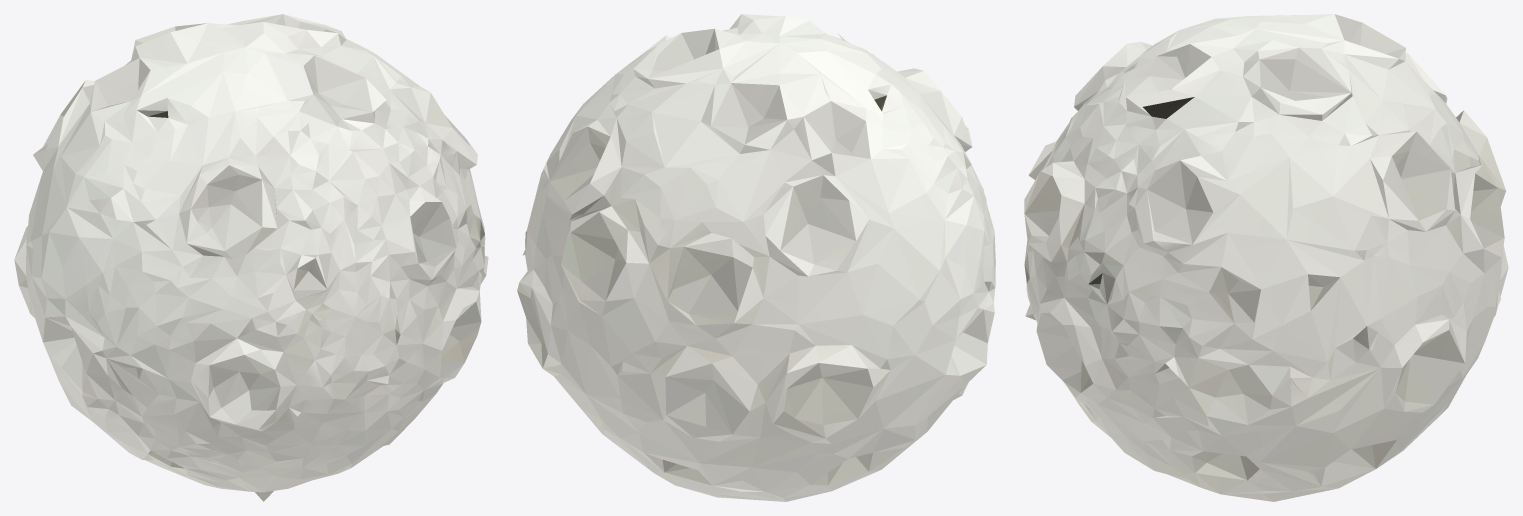
Rendered from moon.glb.
3 renders of one model, left to right at view 1: azimuth 30°, elevation 25°; view 2: azimuth 150°, elevation 25°; view 3: azimuth 270°, elevation 25°, orthographic. The views are drawn at different scales.
Parts seen in each view (by area): view 1: moon; view 2: moon; view 3: moon.
Boxes of the visible parts, x1,y1,x2,y2 form: moon: (14,14,488,501); moon: (517,14,995,501); moon: (1024,14,1508,501).
Bounding box in the file's own units: 0.9739 × 0.9755 × 0.9688.
1 material, 1 textured.
